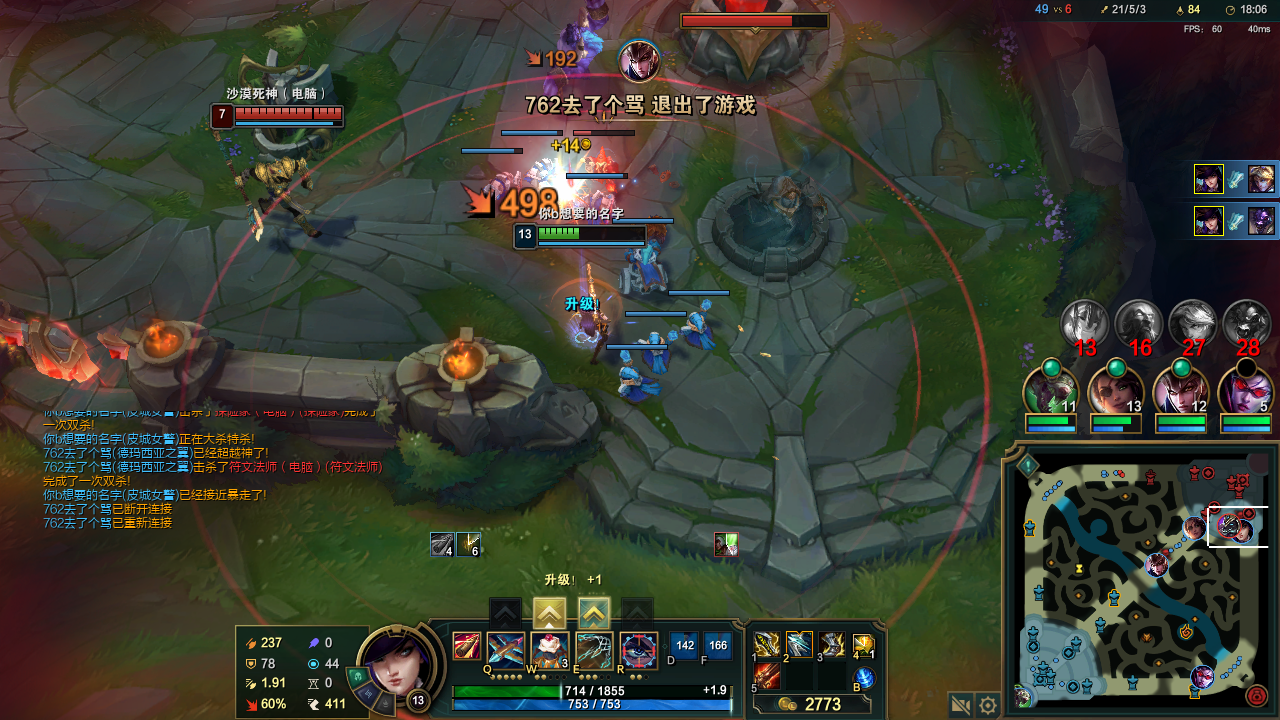DFSJ: (677, 10, 824, 98)
DFXB: (583, 146, 622, 179)
DFYX: (229, 109, 339, 120)
WFXB: (614, 241, 677, 301), (612, 367, 665, 405), (523, 163, 571, 200), (583, 184, 618, 219), (682, 313, 717, 345), (647, 330, 673, 367), (484, 177, 522, 201)
